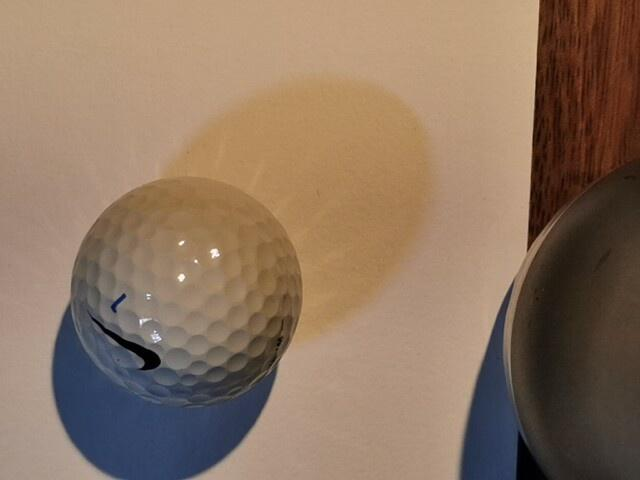Ball: (70, 174, 303, 409)
Nike: (88, 311, 160, 371)
